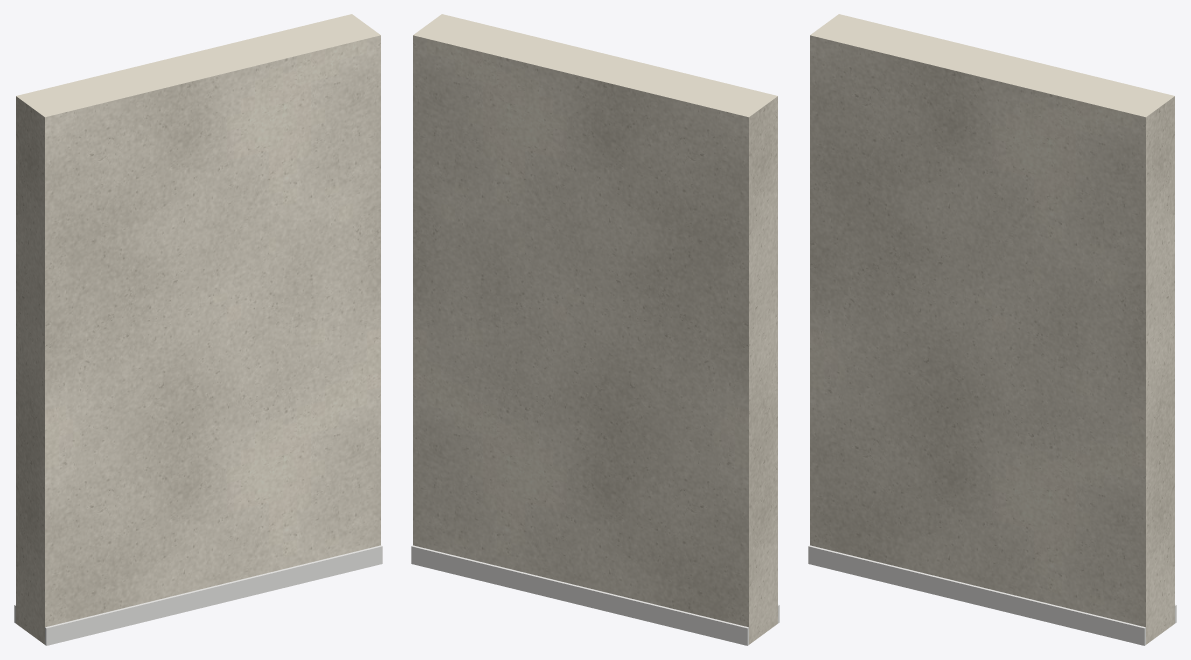
File: wall_hall_party.glb
The picture shows the model from 3 angles, left to right: view 1: azimuth 30°, elevation 25°; view 2: azimuth 150°, elevation 25°; view 3: azimuth 330°, elevation 25°; orthographic projection.
Visible parts, largest first — view 1: wall_hall_party_plaster, wall_hall_party_trim; view 2: wall_hall_party_plaster, wall_hall_party_trim; view 3: wall_hall_party_plaster, wall_hall_party_trim.
Part boxes in pixels (x1,y1,x2,y2): wall_hall_party_plaster: (16, 14, 380, 644); wall_hall_party_trim: (14, 545, 382, 645); wall_hall_party_plaster: (413, 14, 777, 644); wall_hall_party_trim: (411, 545, 779, 645); wall_hall_party_plaster: (810, 14, 1174, 644); wall_hall_party_trim: (808, 545, 1176, 645).
Size of the model in its own units: 2 by 3 by 0.33.
2 materials, 1 textured.
